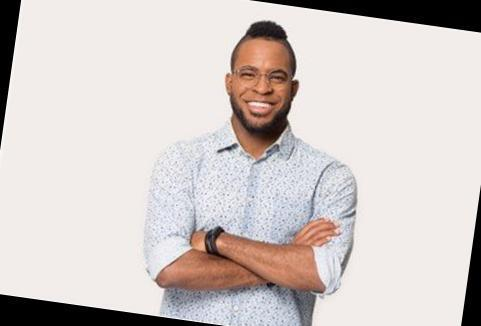Sober: (232, 45, 293, 121)
